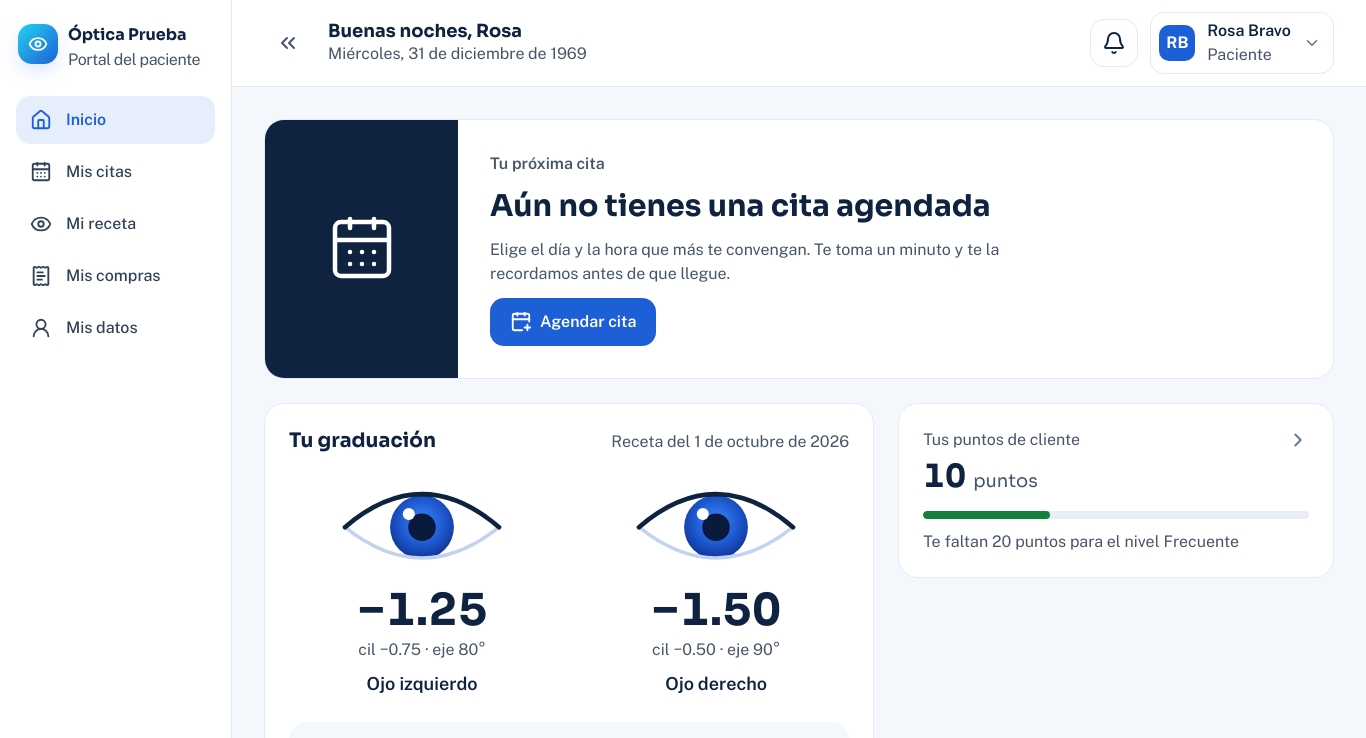
Test: Resumen › «Tus puntos de cliente» cuenta 10 por consulta y dice cuánto falta para el siguiente nivel del programa
Expected: the element "Tus puntos de cliente" shows "Te faltan 20 puntos para el nivel Frecuente", [923,532,1239,550]
Click the button named "Ver cómo sumas tus puntos" at (1116, 490), box [899,404,1333,576]
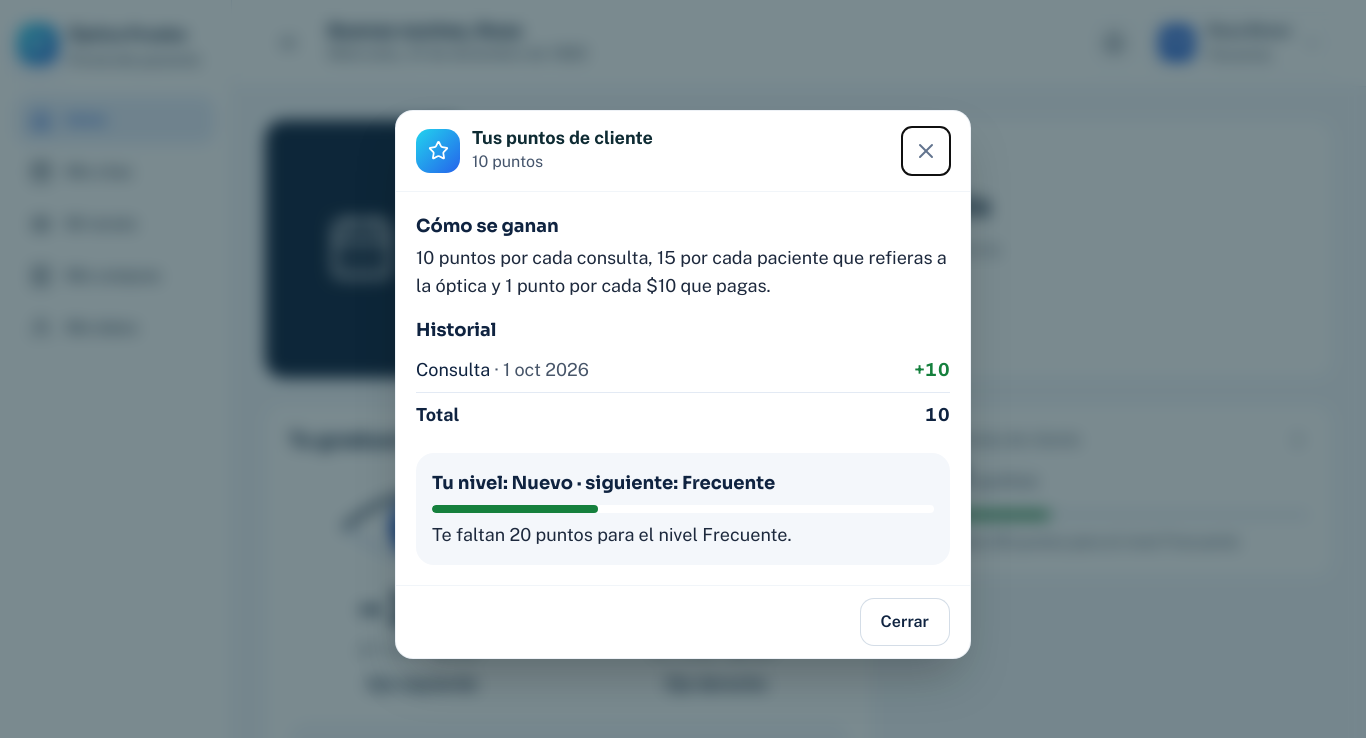
Now the element named "Siguiente nivel" shows "Te faltan 20 puntos para el nivel Frecuente", box [432,524,787,544]
Now the dialog "Tus puntos de cliente" shows "10 puntos por cada consulta, 15 por cada paciente que refieras a la óptica y 1 punto por cada $10 que pagas", box [395,110,971,658]
